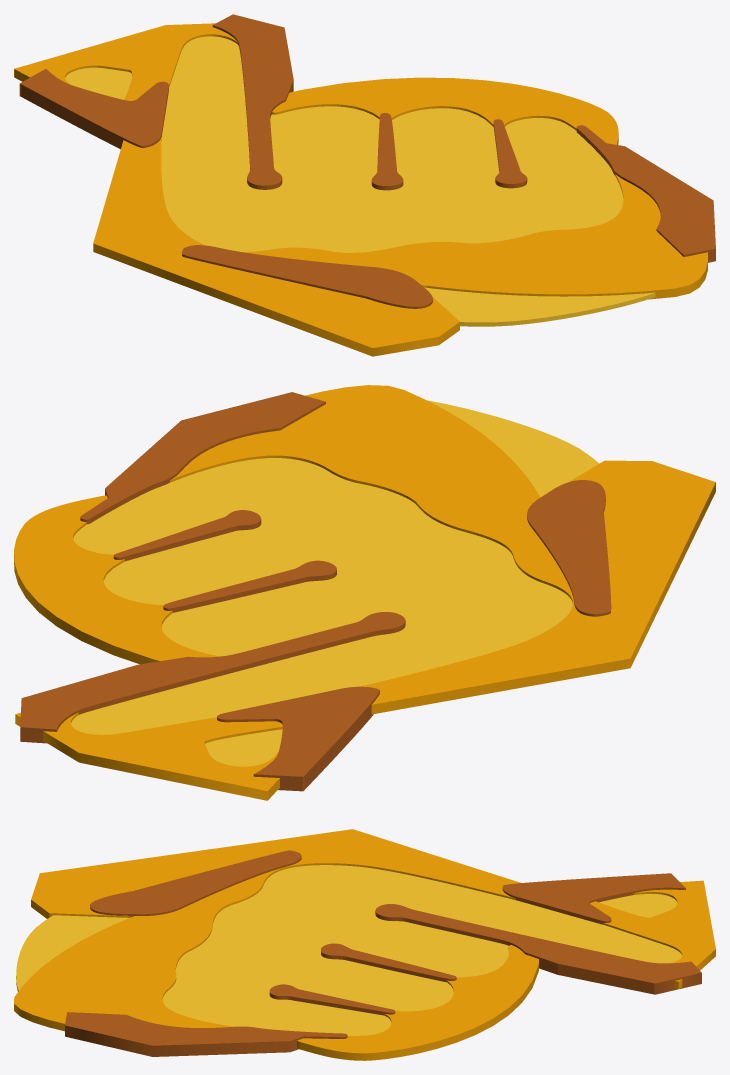
The model's file is emoji_u1faf0.glb.
3 views of the same model, one above another, from view 1: azimuth 30°, elevation 25°; view 2: azimuth 150°, elevation 25°; view 3: azimuth 270°, elevation 25° (orthographic). The views are drawn at different scales.
Parts seen in each view (by area): view 1: emoji_u1faf0; view 2: emoji_u1faf0; view 3: emoji_u1faf0.
Part boxes in pixels (box(x1,y1,x2,y2)): emoji_u1faf0: box(14, 14, 715, 356); emoji_u1faf0: box(14, 385, 715, 800); emoji_u1faf0: box(14, 829, 715, 1060).
Size of the model in its own units: 0.0257 by 0.0006 by 0.0339.
